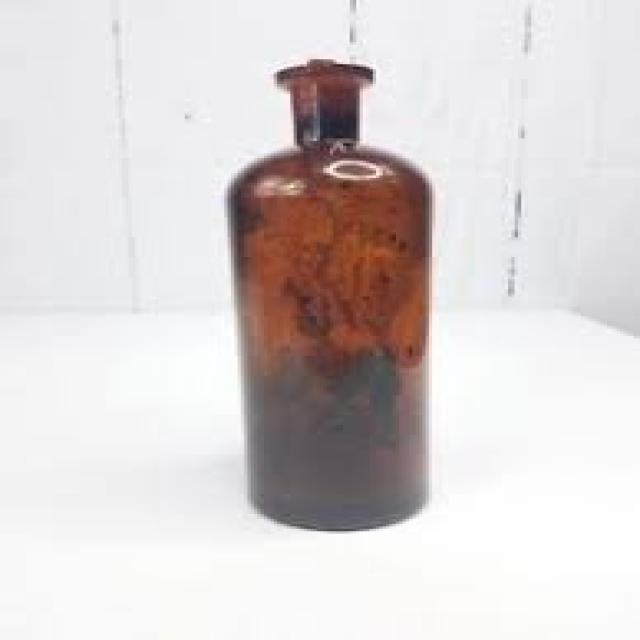glass: (224, 60, 429, 527)
